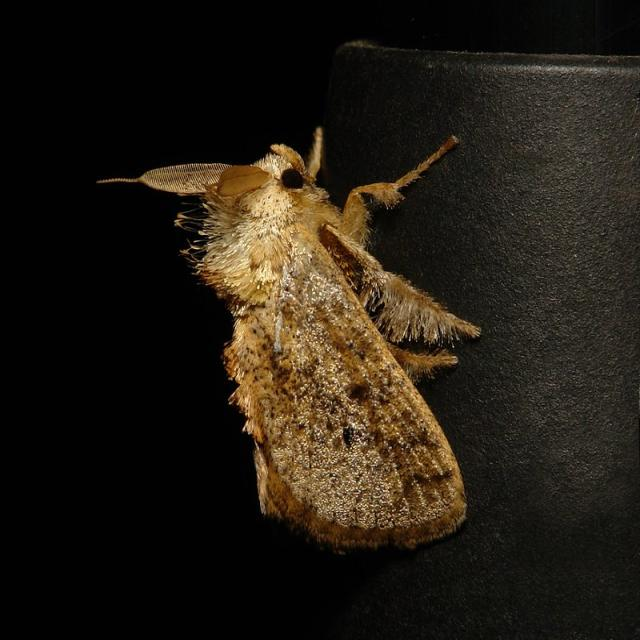SusicaSinensis: (66, 116, 580, 601)
